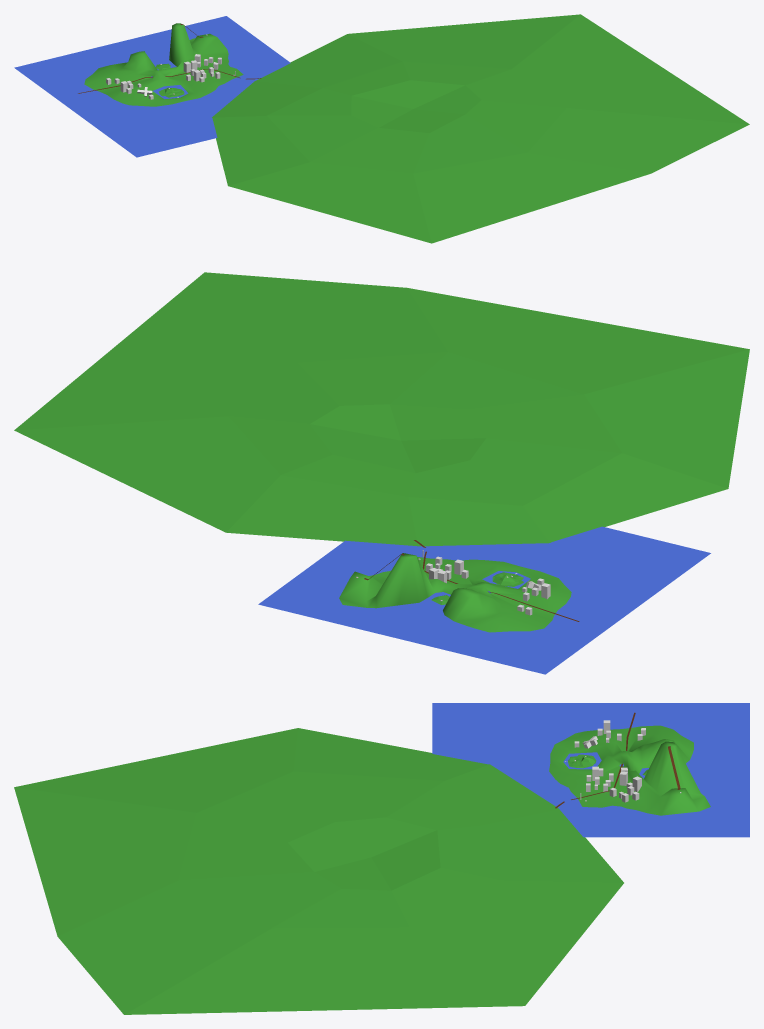
File: 场景框架.fbx
3 views of the same model, one above another, from view 1: azimuth 30°, elevation 25°; view 2: azimuth 150°, elevation 25°; view 3: azimuth 270°, elevation 25° (orthographic). The views are drawn at different scales.
Parts seen in each view (by area): view 1: 平面.004, 平面.001, 平面; view 2: 平面.004, 平面.001, 平面; view 3: 平面.004, 平面.001, 平面.
Boxes of the visible parts, x1,y1,x2,y2 form: 平面.004: (212,14,749,243); 平面.001: (14,16,290,157); 平面: (84,23,243,106); 平面.004: (14,272,749,546); 平面.001: (258,526,710,674); 平面: (339,553,571,632); 平面.004: (14,728,623,1014); 平面.001: (432,703,749,837); 平面: (549,725,710,815).
Bounding box in the file's own units: 16251 × 16293 × 1072.
